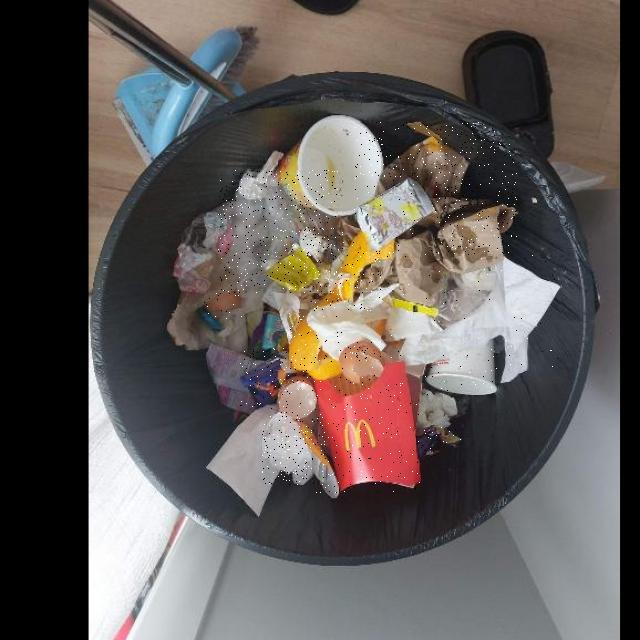biowaste: (310, 231, 394, 311), (288, 313, 342, 379), (340, 342, 386, 383), (277, 376, 316, 419), (205, 290, 243, 319)
paper: (355, 122, 517, 304), (382, 255, 561, 382), (313, 361, 421, 492), (262, 412, 325, 484), (426, 338, 498, 394)
plastic: (219, 170, 338, 292)
wrapper: (356, 177, 435, 251), (240, 348, 313, 409), (417, 426, 463, 459)
